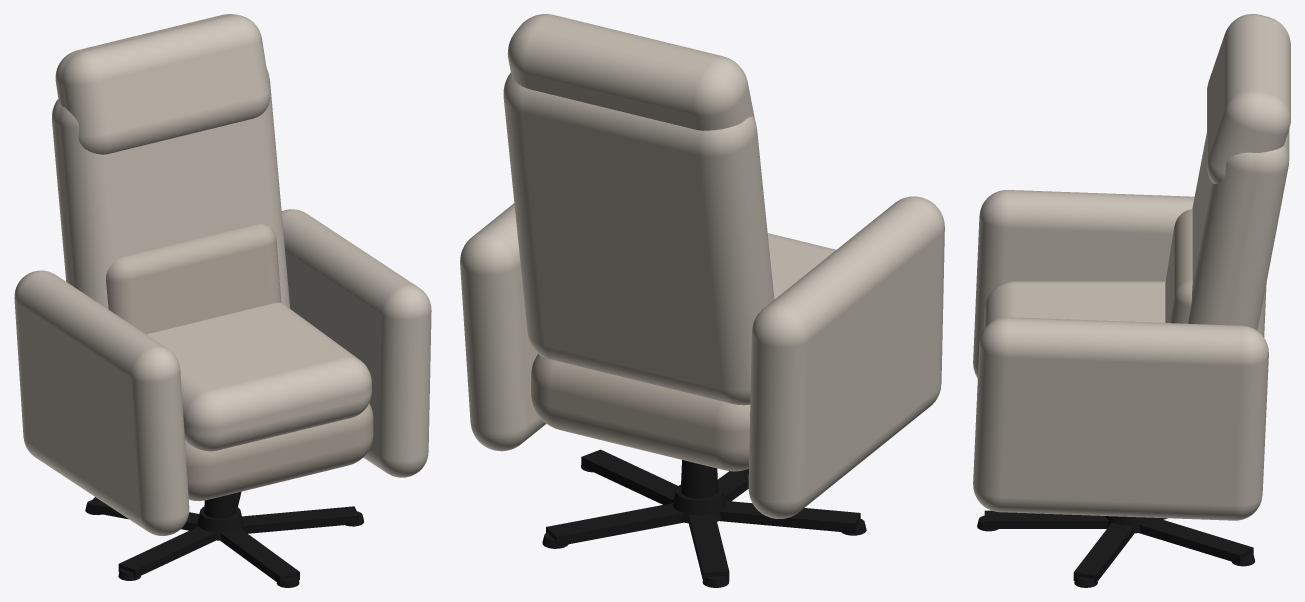
File: venus.glb
3 views of the same model, side by side, from view 1: azimuth 30°, elevation 25°; view 2: azimuth 150°, elevation 25°; view 3: azimuth 270°, elevation 25° (orthographic). The views are drawn at different scales.
Visible parts, largest first — view 1: ArmLeft, Backrest, SeatCushion, Headrest, ArmRight, Lumbar, SeatShell, BaseSpoke1, BaseSpoke4, BaseSpoke0, BaseHub, BaseColumn (+1 smaller); view 2: Backrest, ArmLeft, Headrest, SeatShell, ArmRight, BaseSpoke2, BaseSpoke4, SeatCushion, BaseSpoke1, BaseSpoke3, BaseColumn, BaseHub (+1 smaller); view 3: ArmRight, ArmLeft, Backrest, Headrest, SeatCushion, Lumbar, BaseSpoke2, BaseSpoke0, BaseSpoke1, BaseHub.
Part boxes in pixels (bbox=[...]): ArmLeft: bbox=[14, 270, 189, 535]; Backrest: bbox=[52, 68, 290, 309]; SeatCushion: bbox=[146, 302, 371, 451]; Headrest: bbox=[55, 14, 270, 154]; ArmRight: bbox=[281, 209, 431, 477]; Lumbar: bbox=[106, 224, 281, 334]; SeatShell: bbox=[185, 403, 373, 501]; BaseSpoke1: bbox=[242, 506, 359, 533]; BaseSpoke4: bbox=[118, 526, 215, 578]; BaseSpoke0: bbox=[220, 528, 299, 584]; BaseHub: bbox=[197, 506, 243, 540]; BaseColumn: bbox=[204, 493, 236, 518]; Backrest: bbox=[503, 72, 774, 405]; ArmLeft: bbox=[748, 196, 944, 518]; Headrest: bbox=[507, 14, 755, 130]; SeatShell: bbox=[531, 353, 750, 471]; ArmRight: bbox=[460, 203, 546, 451]; BaseSpoke2: bbox=[546, 503, 683, 546]; BaseSpoke4: bbox=[719, 501, 860, 533]; SeatCushion: bbox=[767, 233, 836, 299]; BaseSpoke1: bbox=[581, 449, 677, 504]; BaseSpoke3: bbox=[688, 513, 729, 582]; BaseColumn: bbox=[680, 460, 718, 498]; BaseHub: bbox=[672, 484, 725, 523]; ArmRight: bbox=[973, 317, 1268, 520]; ArmLeft: bbox=[973, 190, 1266, 377]; Backrest: bbox=[1188, 130, 1289, 330]; Headrest: bbox=[1207, 14, 1290, 183]; SeatCushion: bbox=[984, 281, 1165, 328]; Lumbar: bbox=[1165, 209, 1192, 323]; BaseSpoke2: bbox=[1139, 517, 1253, 563]; BaseSpoke0: bbox=[984, 510, 1108, 528]; BaseSpoke1: bbox=[1073, 522, 1134, 583]; BaseHub: bbox=[1106, 516, 1152, 533].
Size of the model in its own units: 0.8365 by 1.22 by 0.7457.
